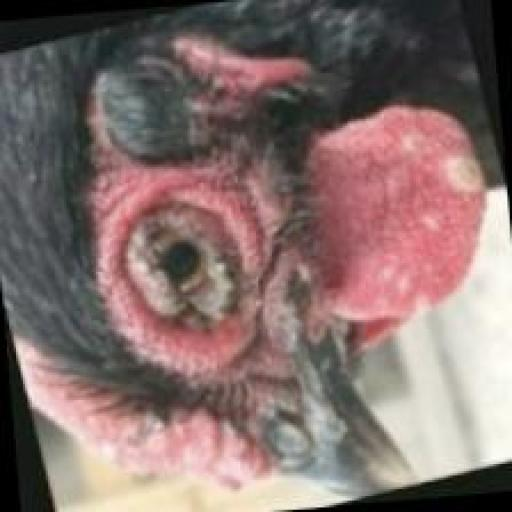disease: (84, 23, 494, 495)
